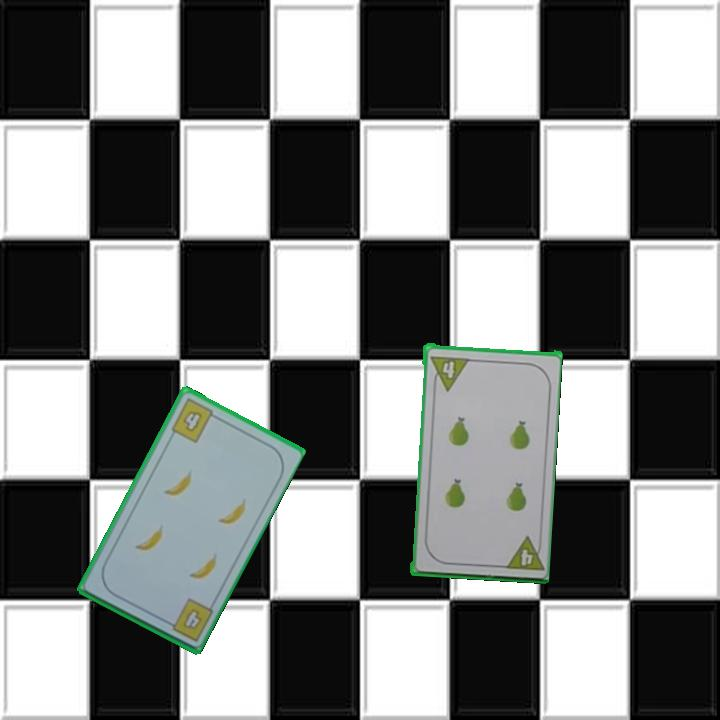4b: (167, 395, 221, 446), (161, 595, 216, 644)
4p: (500, 532, 545, 574), (426, 352, 471, 392)
